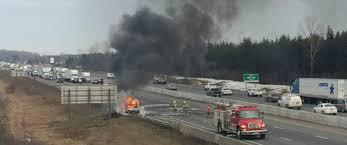smoke: (125, 28, 186, 67), (118, 69, 137, 88)
